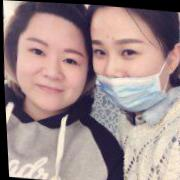NONE: (16, 32, 90, 114)
WRONG: (88, 23, 168, 112)
